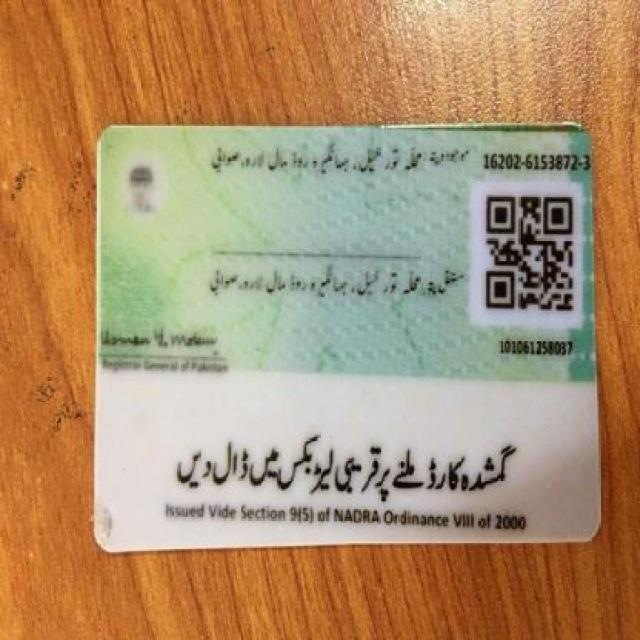Back: (89, 118, 602, 544)
